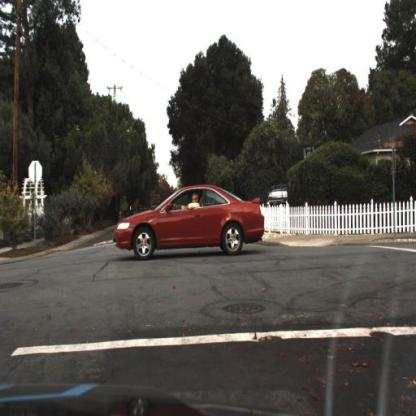car: (112, 183, 267, 259), (268, 184, 290, 208)
